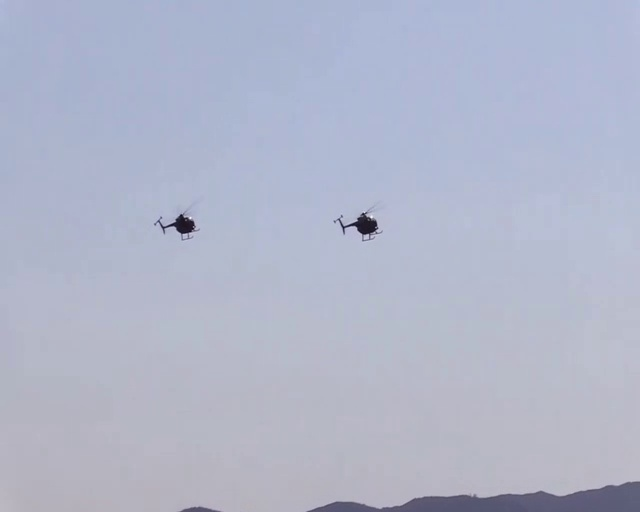HELICOPTER: (154, 194, 204, 240)
